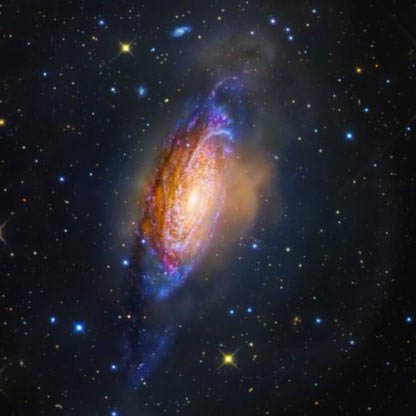NGC 3521: (71, 32, 357, 374)
